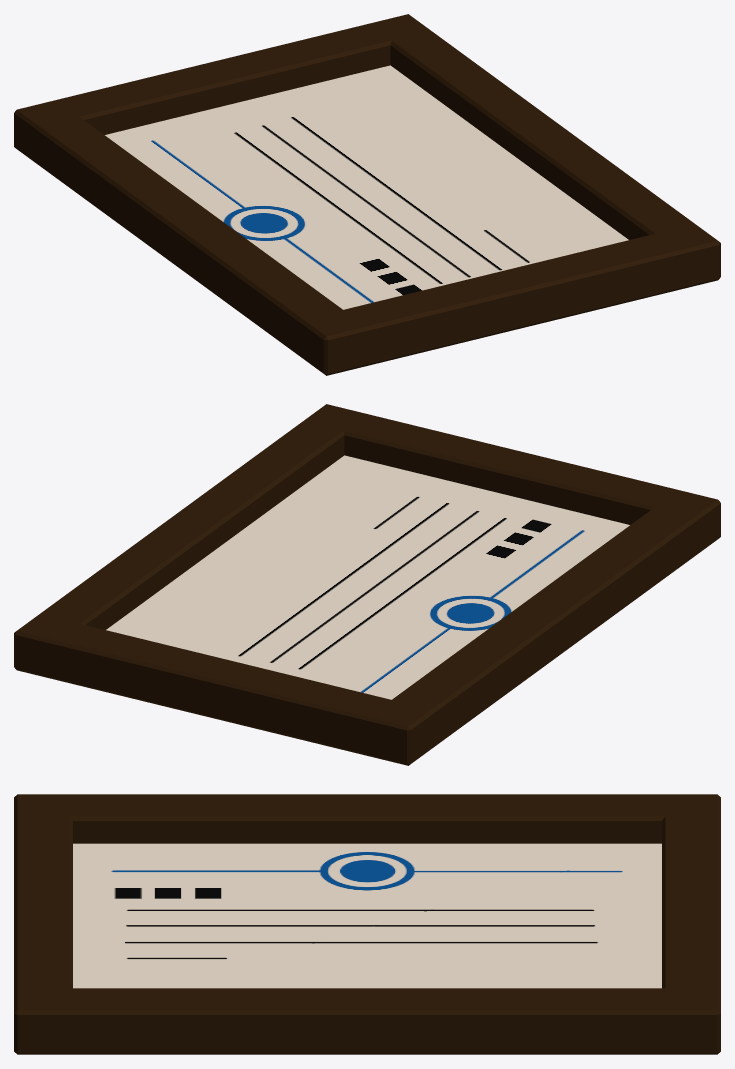
The model's file is Recorded.fbx.
3 renders of one model, top to bottom at view 1: azimuth 30°, elevation 25°; view 2: azimuth 150°, elevation 25°; view 3: azimuth 270°, elevation 25°, orthographic. The views are drawn at different scales.
Visible parts, largest first — view 1: Recorded; view 2: Recorded; view 3: Recorded.
Part boxes in pixels (x1,y1,x2,y2): Recorded: [14, 14, 720, 375]; Recorded: [14, 404, 720, 765]; Recorded: [14, 794, 720, 1054].
Bounding box in the file's own units: 147 × 13.95 × 200.
